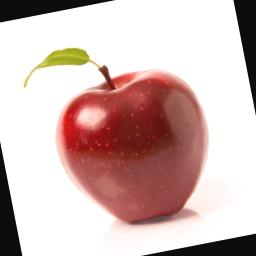Apple Ripe: (36, 46, 240, 244)
